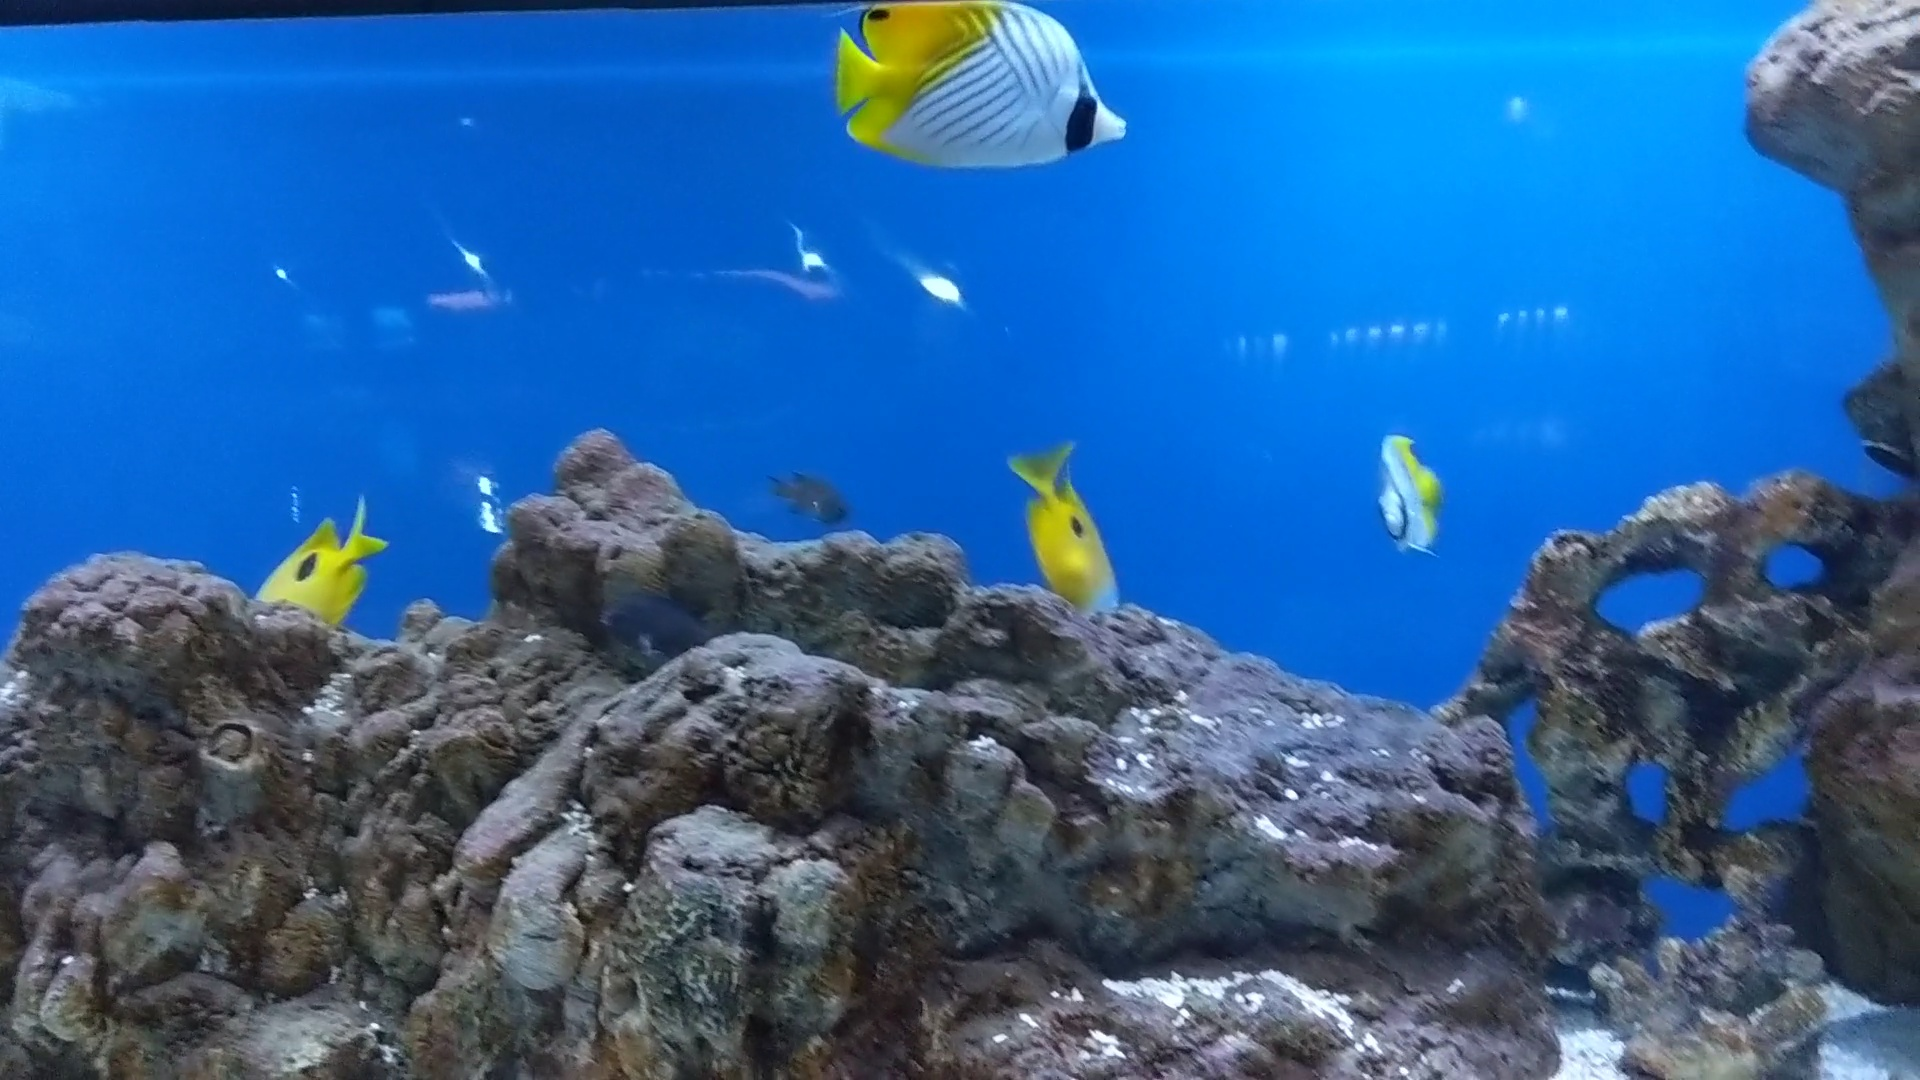butterflyfish: (820, 0, 1122, 170)
moorfish: (1350, 421, 1458, 553)
rabbitfish: (990, 429, 1118, 626), (255, 491, 390, 615)
